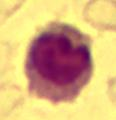lymphocyte: (19, 23, 93, 103)
